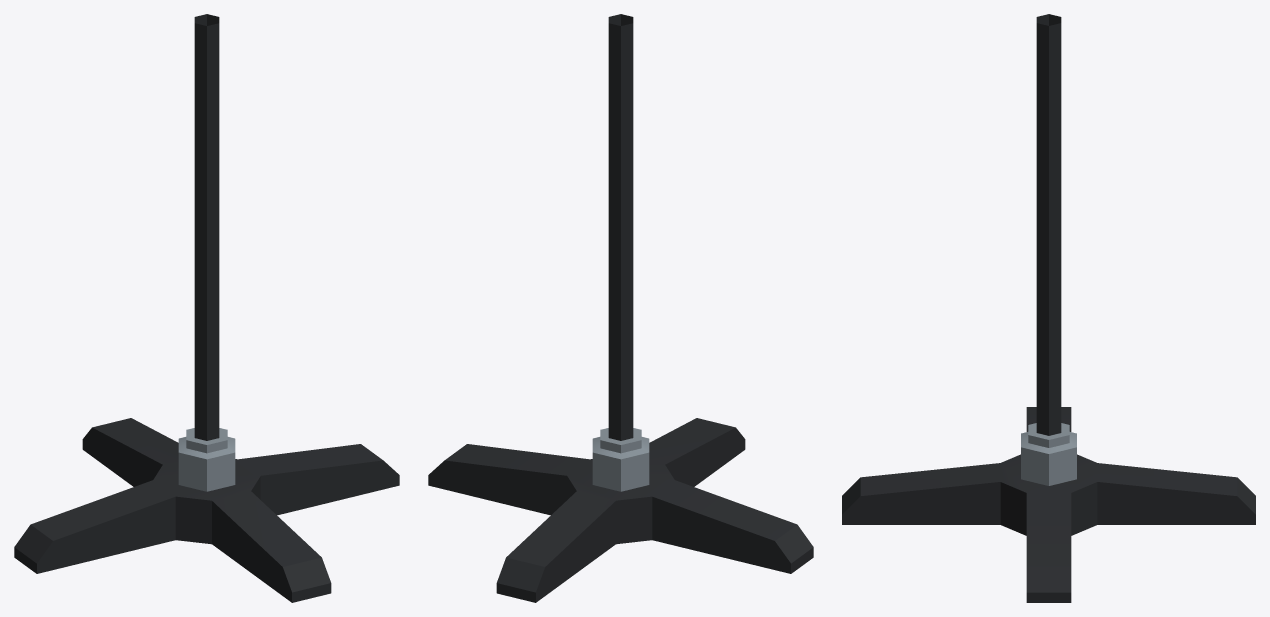
File: SM_Prop_Fan_01.fbx
The picture shows the model from 3 angles, left to right: view 1: azimuth 30°, elevation 25°; view 2: azimuth 150°, elevation 25°; view 3: azimuth 270°, elevation 25°; orthographic projection.
Visible parts, largest first — view 1: SM_Prop_Fan_01; view 2: SM_Prop_Fan_01; view 3: SM_Prop_Fan_01.
Part boxes in pixels (x1,y1,x2,y2): SM_Prop_Fan_01: (14,14,399,602); SM_Prop_Fan_01: (428,14,813,602); SM_Prop_Fan_01: (842,14,1255,602).
Size of the model in its own units: 103 by 136 by 103.
